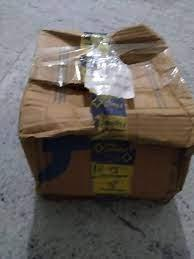damage_box: (17, 24, 193, 203)
